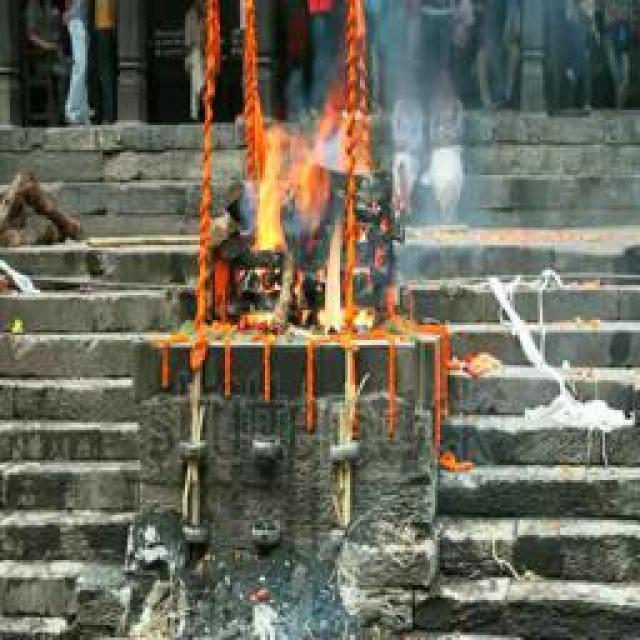Fire: (256, 120, 346, 343)
